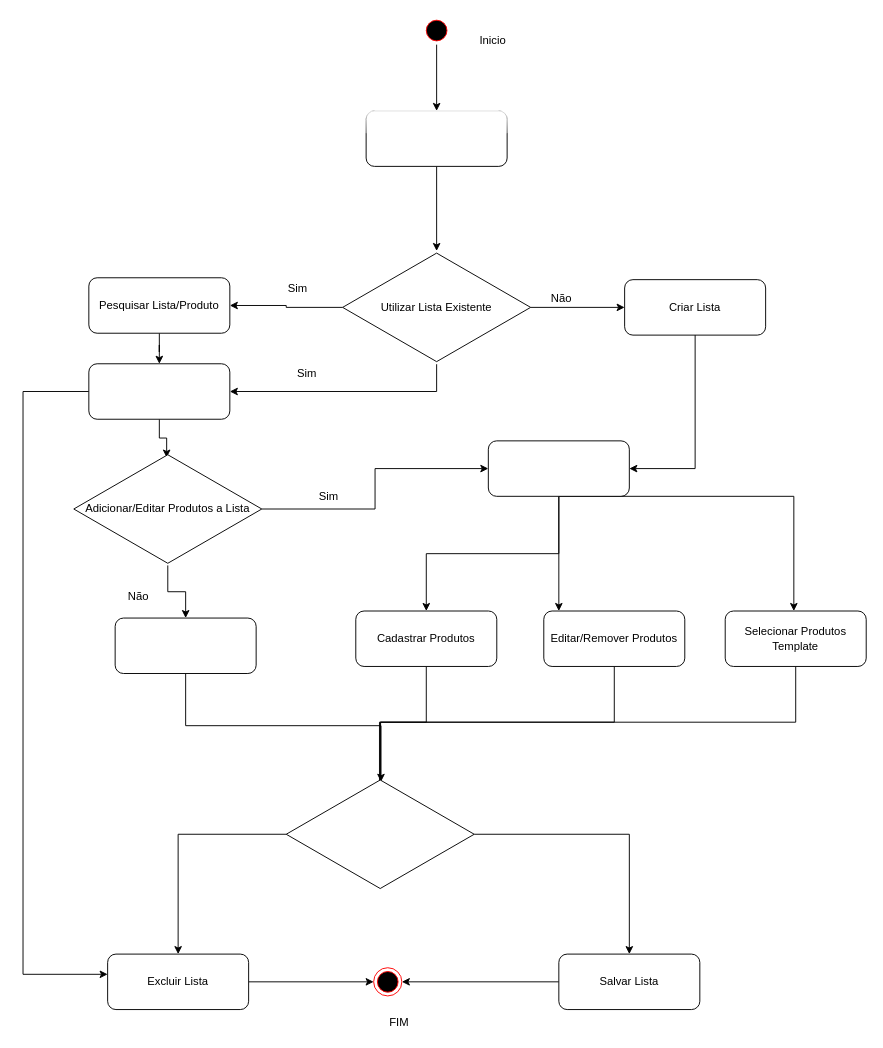
Image size: 883x1048. Some labels were removed from this diagram. Here are the shapes that lost their labels. From the top down, the centre of each, then its label:
At (x=436, y=138): "Exibir Listas (Template/Histórico)".
At (x=159, y=391): "Acessar Lista".
At (x=558, y=468): "Manter Lista".
At (x=185, y=645): "Marcar os produtos já comprados".
At (x=379, y=834): "Guardar Lista".
